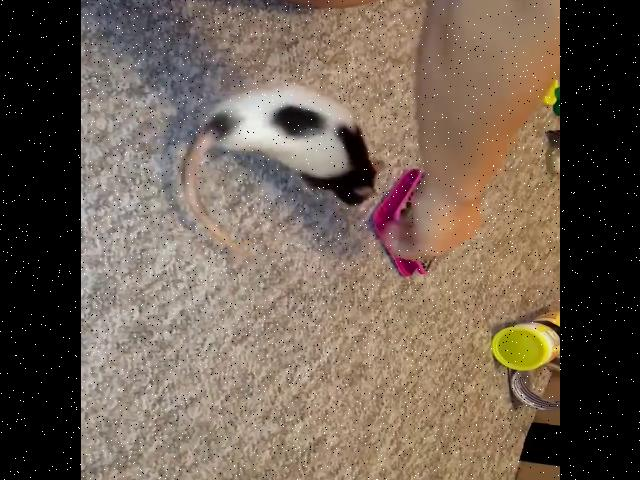Tikus: (200, 84, 383, 208)
